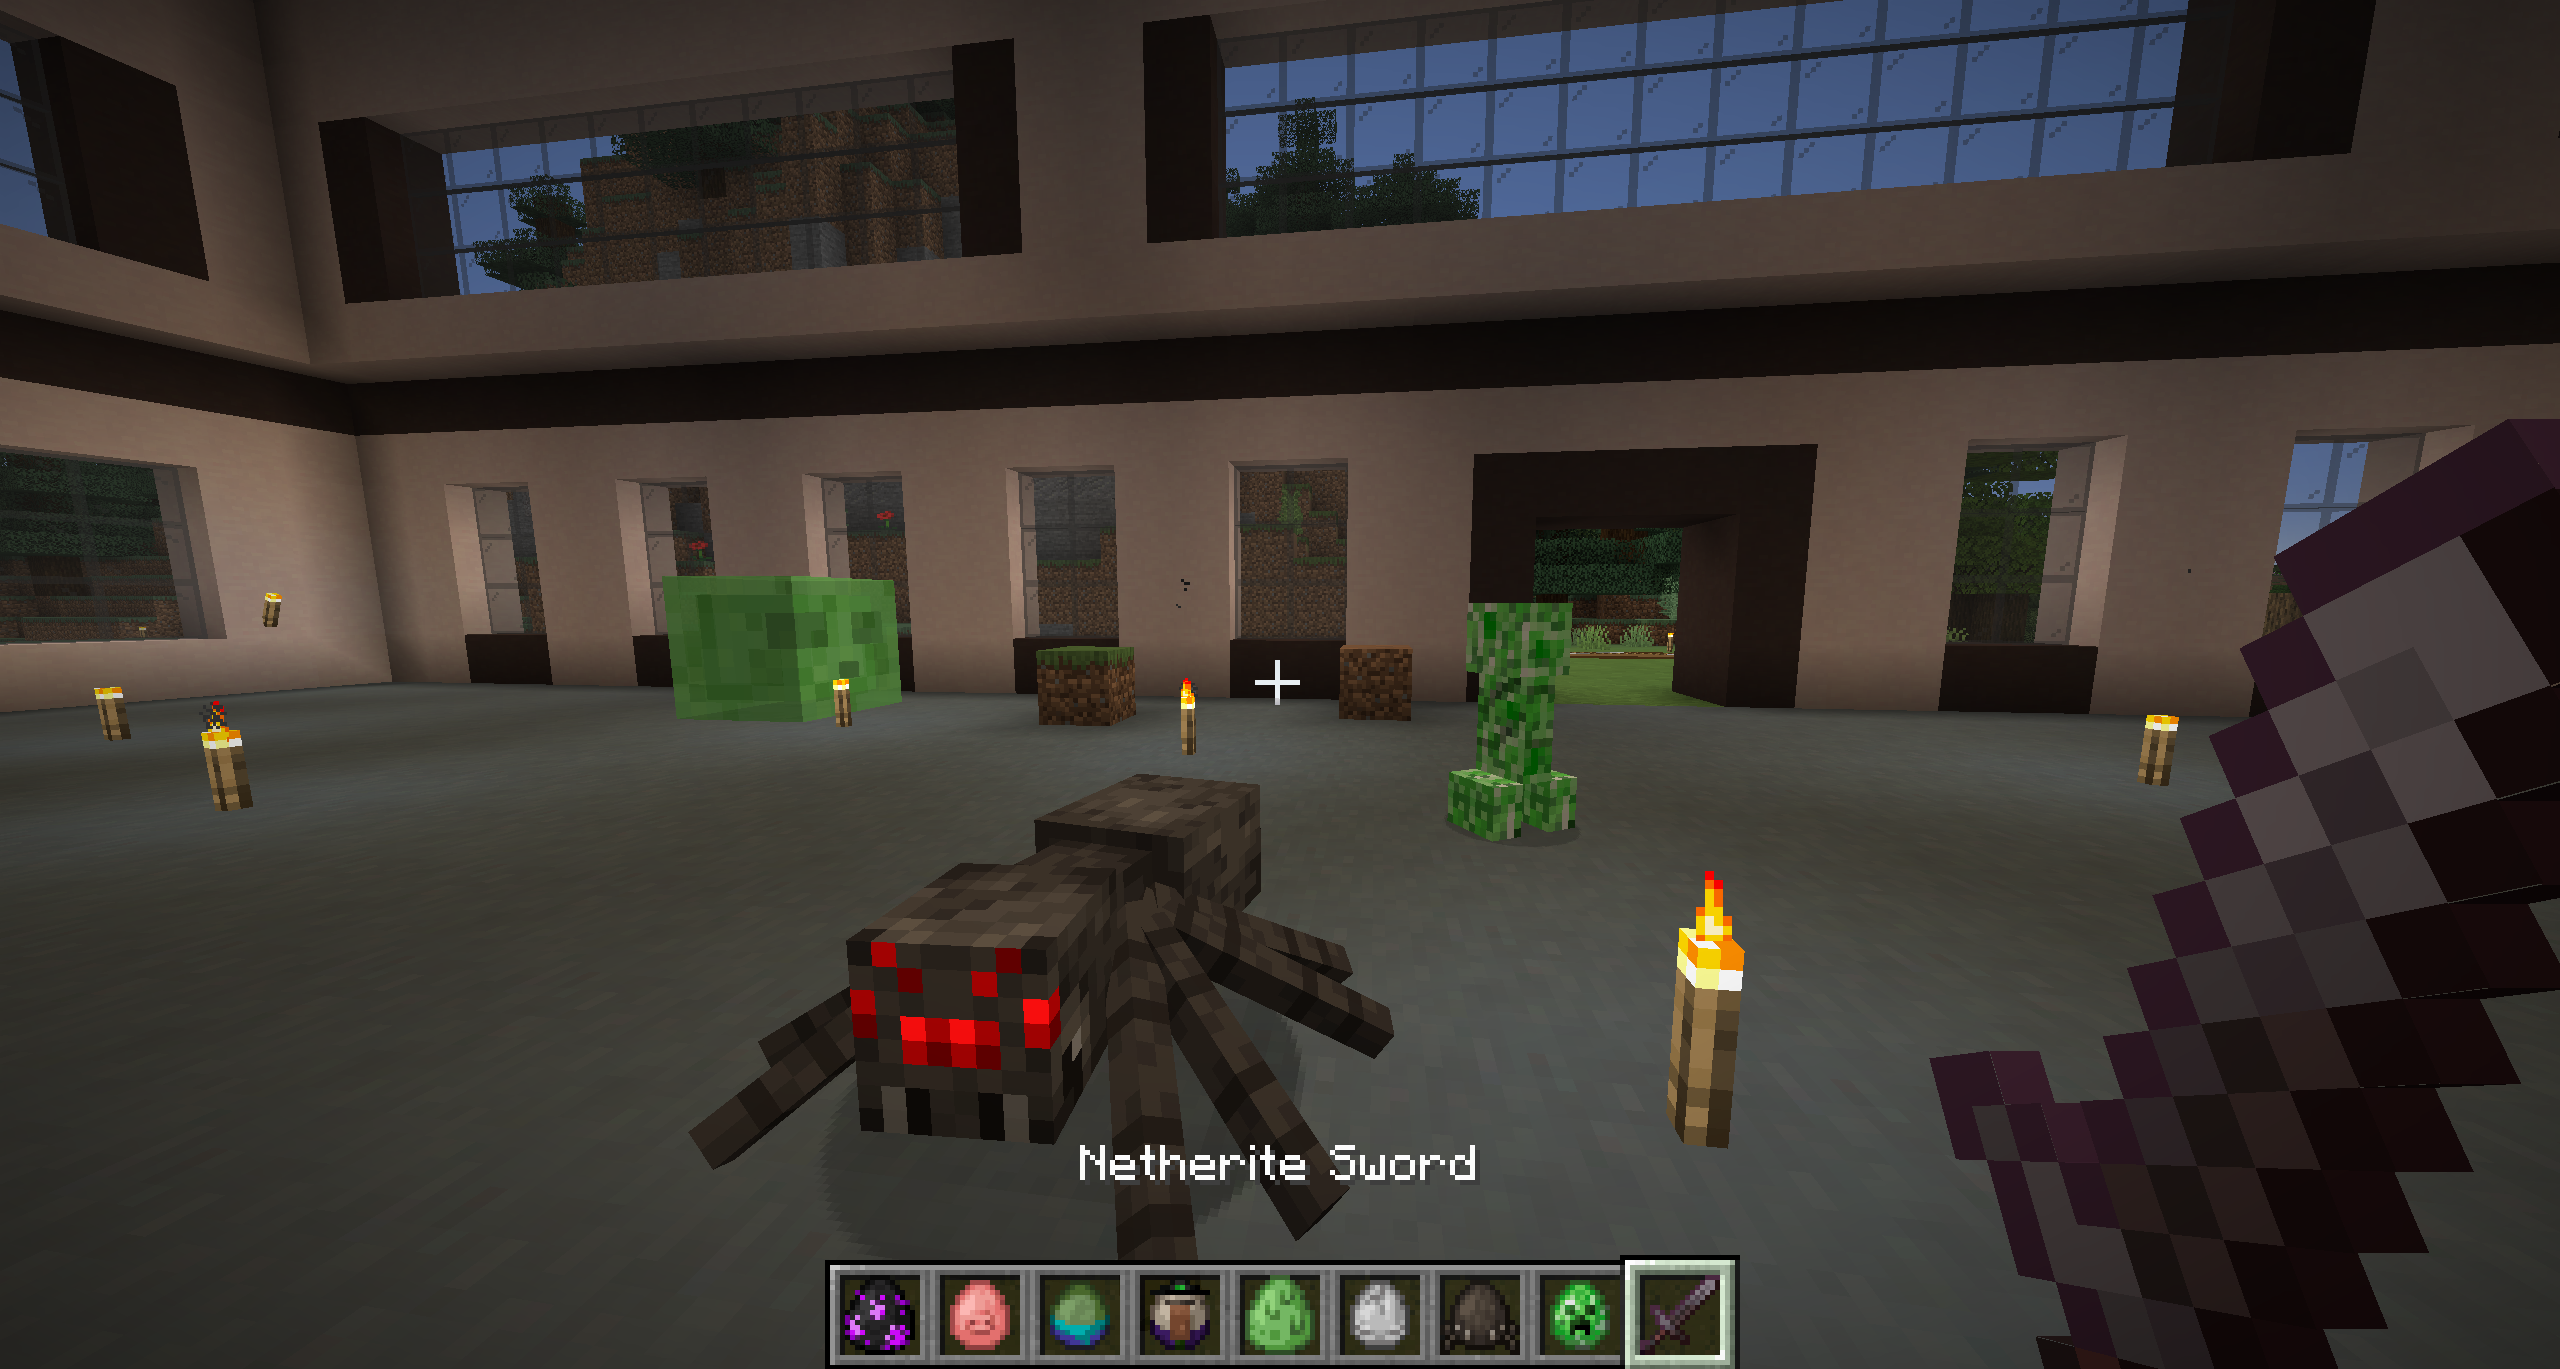araignees: (731, 768, 1368, 1256)
creepers: (1456, 599, 1586, 839)
slimes: (655, 572, 911, 723)
